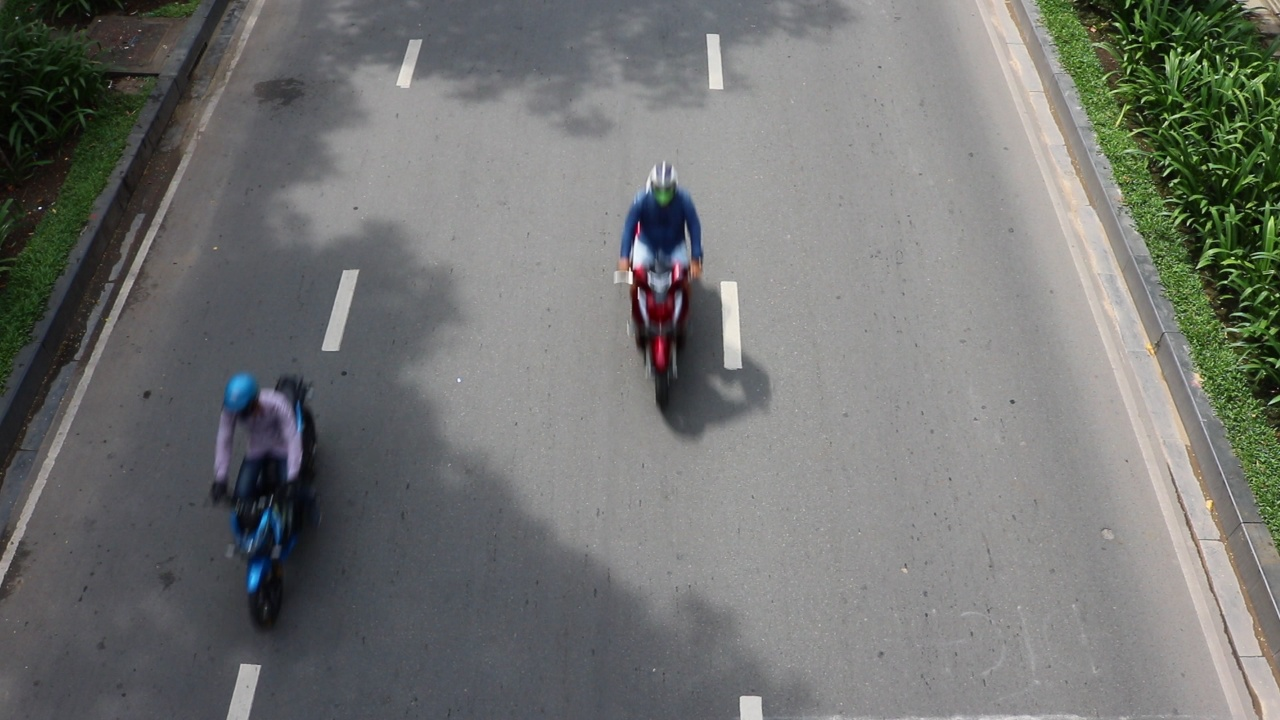motorcycle: (206, 450, 314, 634), (623, 238, 695, 410)
